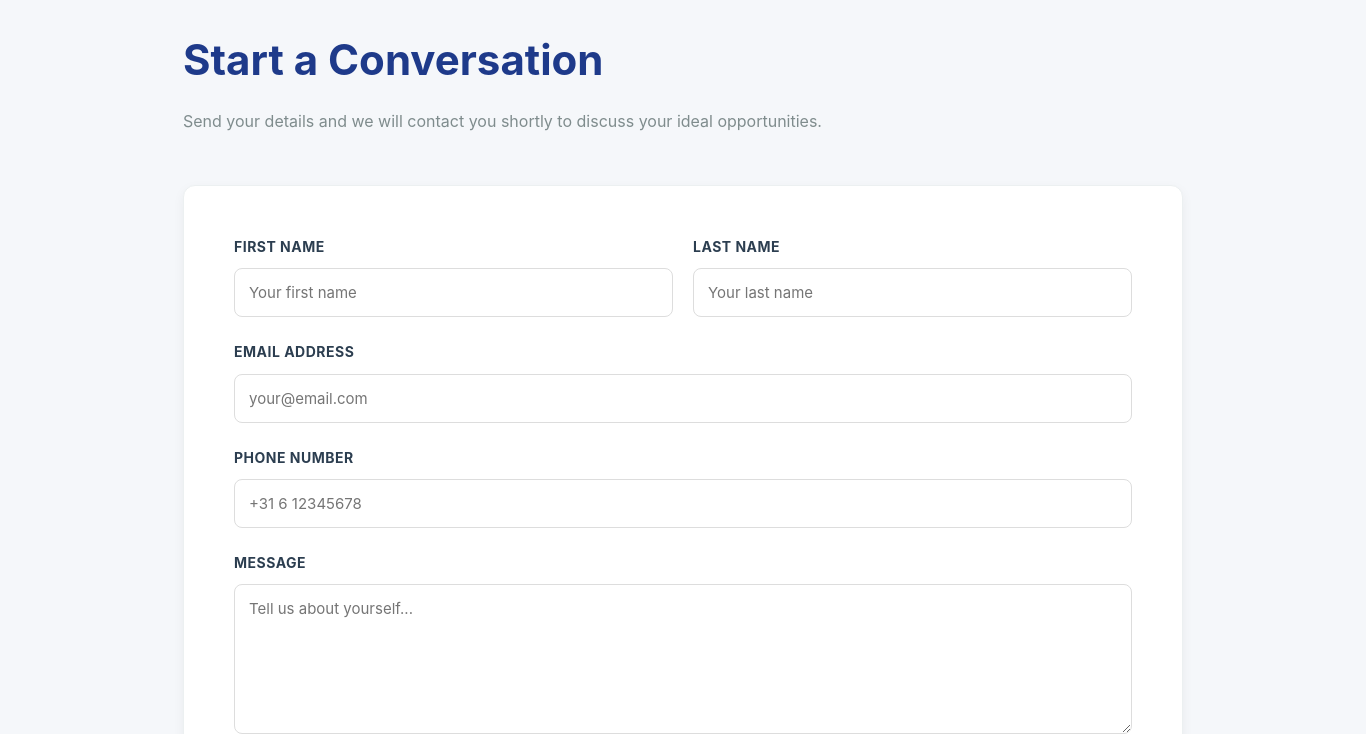
it: Contact form › shows a format error for an invalid email
Type "not-an-email" into the field labelled "Email Address" at (683, 398), box [234,374,1132,423]
(page scrolled)
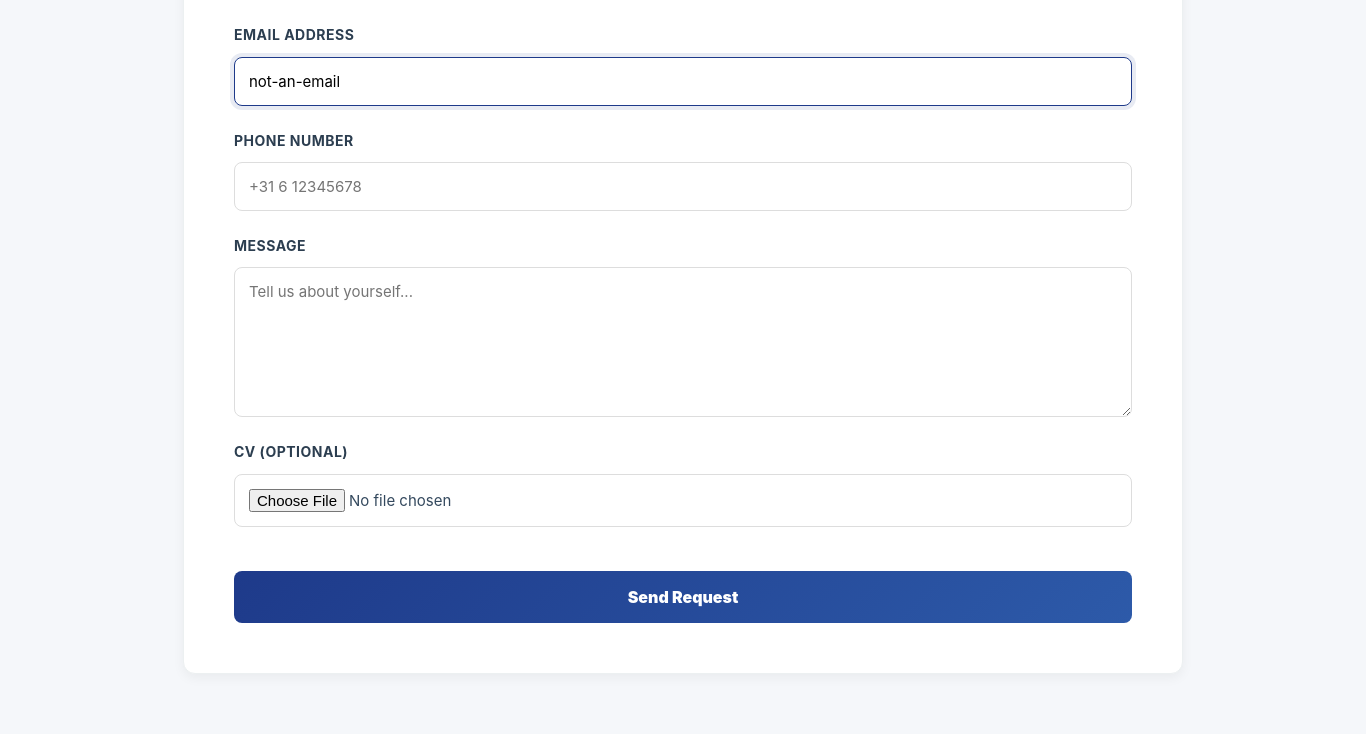
Click the button "Send Request" at (683, 597), box [234,571,1132,623]
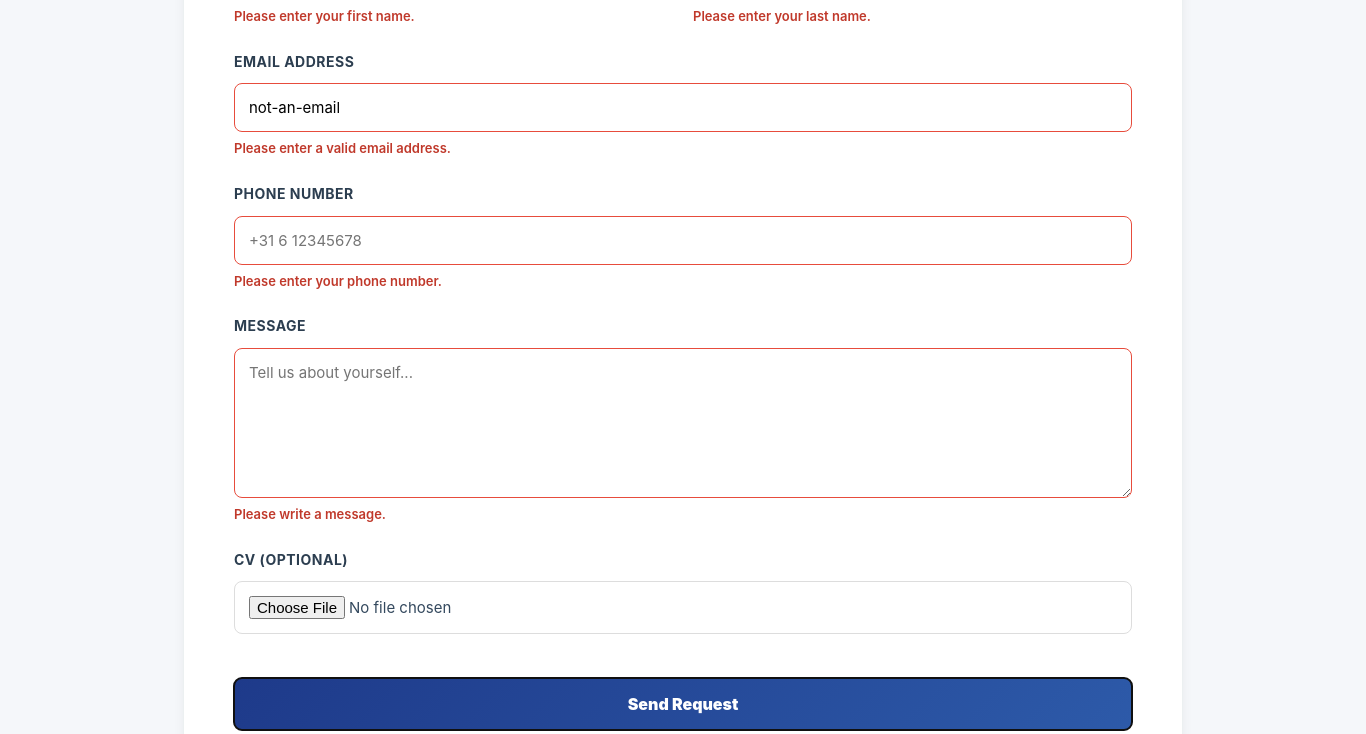
Now the text "Please enter a valid email address." is shown, box [234,140,451,156]
